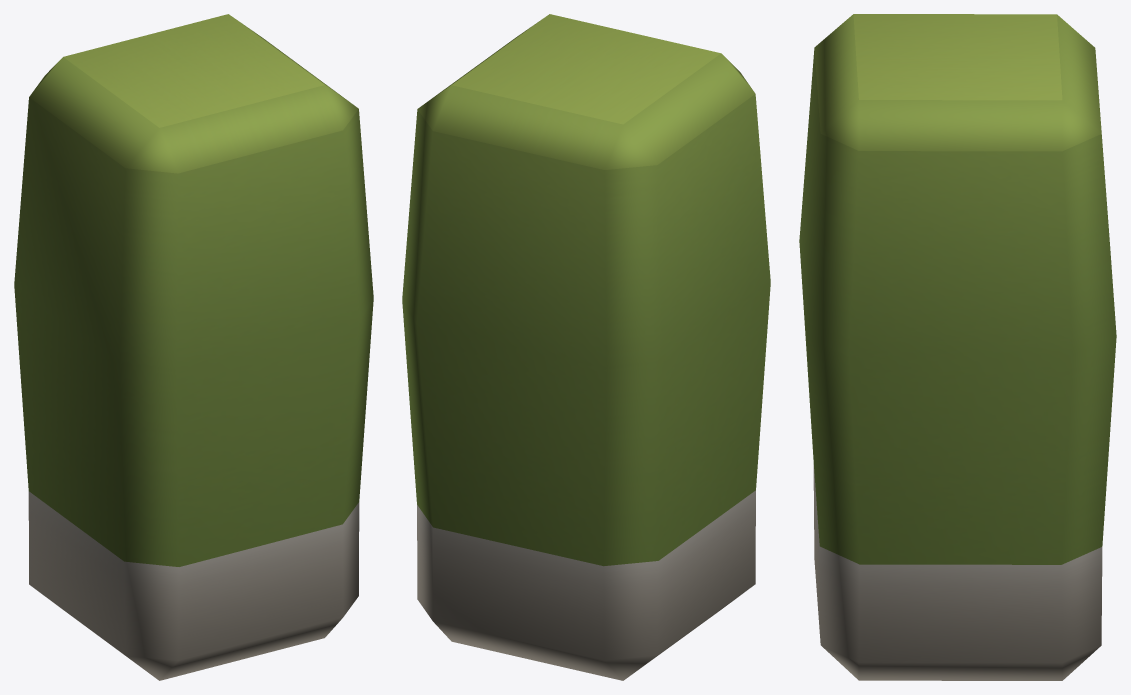
File: hedge_rooftop_05x05_high.fbx
3 renders of one model, left to right at view 1: azimuth 30°, elevation 25°; view 2: azimuth 150°, elevation 25°; view 3: azimuth 270°, elevation 25°, orthographic. The views are drawn at different scales.
Parts seen in each view (by area): view 1: hedge_rooftop_05x05_high; view 2: hedge_rooftop_05x05_high; view 3: hedge_rooftop_05x05_high.
Boxes of the visible parts, box(x1,y1,x2,y2) form: hedge_rooftop_05x05_high: box(14, 14, 373, 680); hedge_rooftop_05x05_high: box(402, 14, 770, 680); hedge_rooftop_05x05_high: box(799, 14, 1116, 680).
Bounding box in the file's own units: 60.79 × 125 × 61.85.
